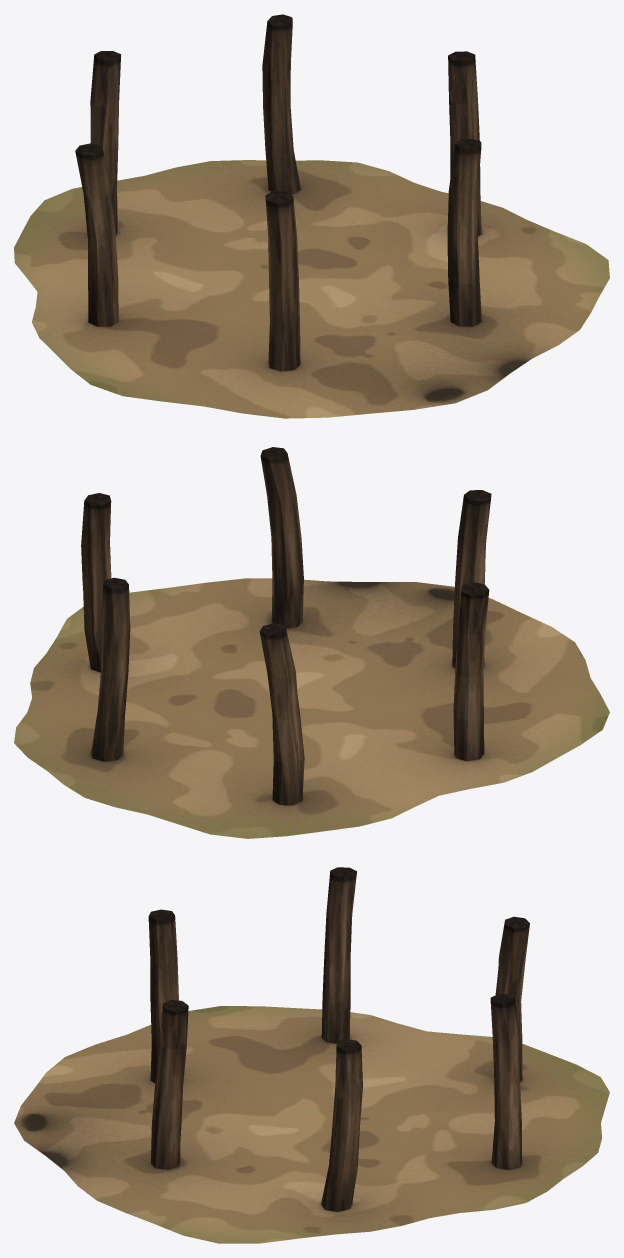
File: granary_stilts.gltf
The picture shows the model from 3 angles, top to bottom: view 1: azimuth 30°, elevation 25°; view 2: azimuth 150°, elevation 25°; view 3: azimuth 270°, elevation 25°; orthographic projection. The views are drawn at different scales.
Visible parts, largest first — view 1: granary_stilts; view 2: granary_stilts; view 3: granary_stilts.
Part boxes in pixels (x1,y1,x2,y2): granary_stilts: (14,14,609,418); granary_stilts: (14,447,609,838); granary_stilts: (14,867,609,1243).
Size of the model in its own units: 3.18 by 1.03 by 3.37.
2 materials, 2 textured.
